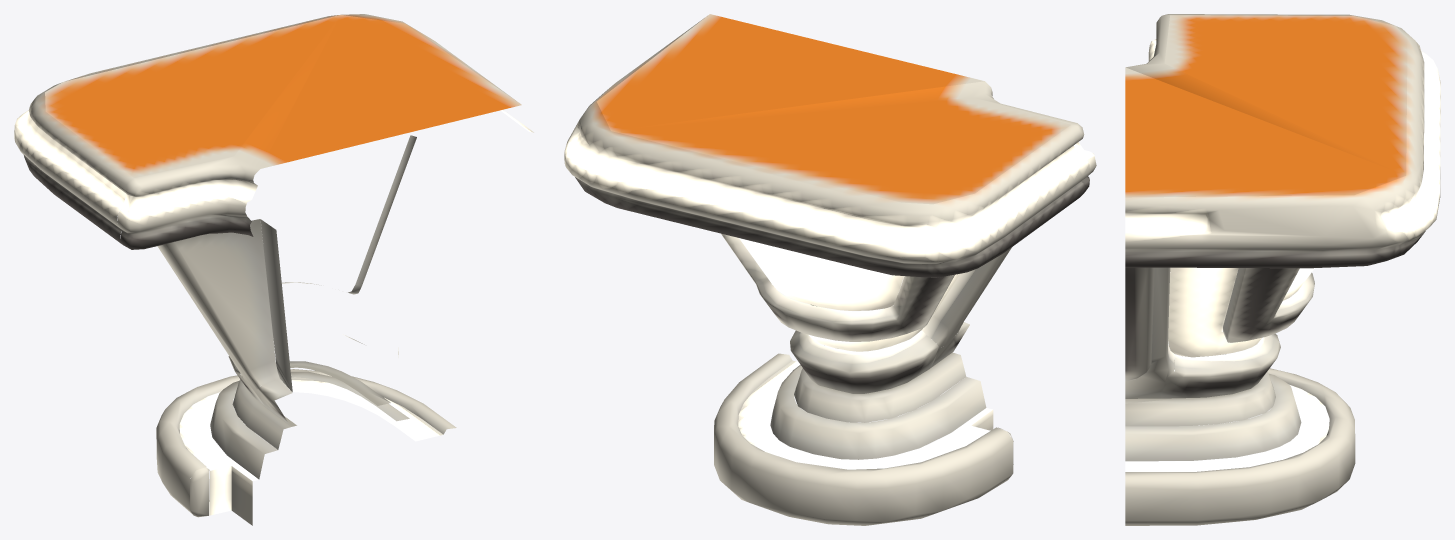
The model's file is table_bar_c.glb.
The picture shows the model from 3 angles, left to right: view 1: azimuth 30°, elevation 25°; view 2: azimuth 150°, elevation 25°; view 3: azimuth 270°, elevation 25°; orthographic projection. The views are drawn at different scales.
Parts seen in each view (by area): view 1: table_bar; view 2: table_bar; view 3: table_bar.
Part boxes in pixels (box(x1,y1,x2,y2)): table_bar: box(14, 14, 533, 525); table_bar: box(564, 14, 1096, 525); table_bar: box(1125, 14, 1440, 525).
Size of the model in its own units: 1.29 by 1.1 by 0.8676.
1 material, 1 textured.
